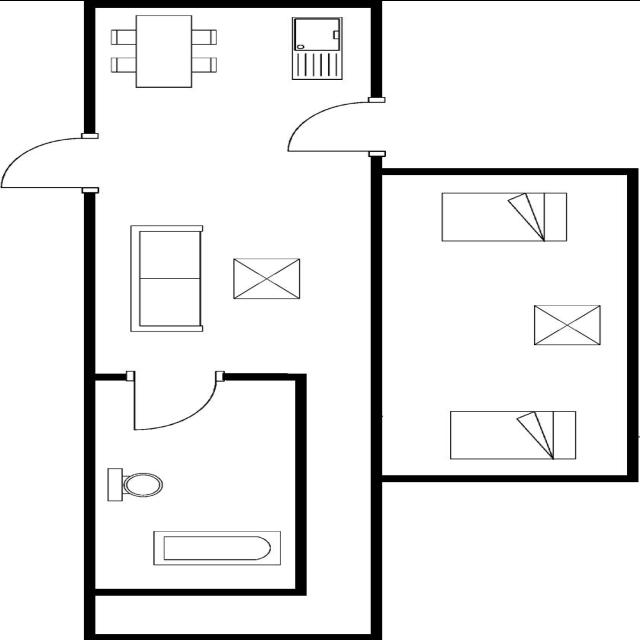bed: (444, 407, 580, 462), (436, 190, 570, 243)
coffee_table: (528, 302, 606, 348), (228, 255, 305, 301)
dining_table: (104, 12, 220, 92)
large_sink: (103, 465, 168, 503)
large_sofa: (125, 222, 208, 335)
sink: (286, 14, 348, 83)
tub: (149, 526, 283, 568)
